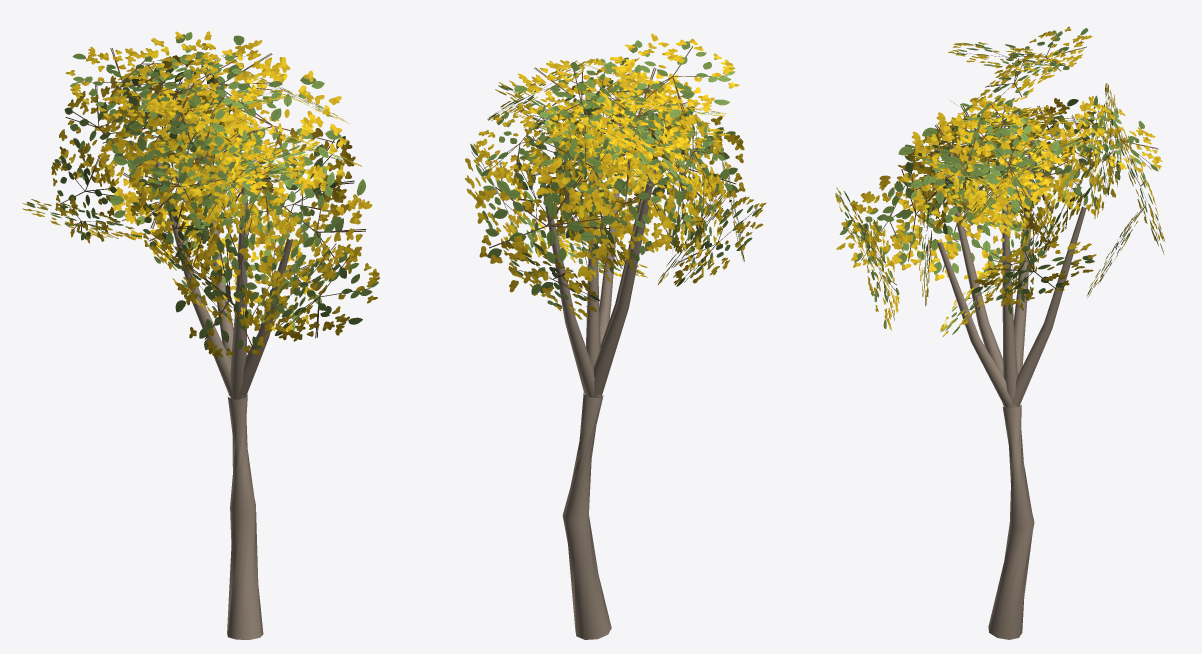
File: handroanthus-albus.glb
3 views of the same model, side by side, from view 1: azimuth 30°, elevation 25°; view 2: azimuth 150°, elevation 25°; view 3: azimuth 270°, elevation 25° (orthographic). The views are drawn at different scales.
Parts seen in each view (by area): view 1: folhas, tronco; view 2: folhas, tronco; view 3: folhas, tronco.
Boxes of the visible parts, <box> form: folhas: <box>22,31,379,357</box>; tronco: <box>154,150,292,639</box>; folhas: <box>465,33,766,319</box>; tronco: <box>545,168,655,639</box>; folhas: <box>835,26,1165,336</box>; tronco: <box>937,140,1086,639</box>.
Size of the model in its own units: 5.92 by 10 by 6.
Materials: 2 (1 with a texture image).
